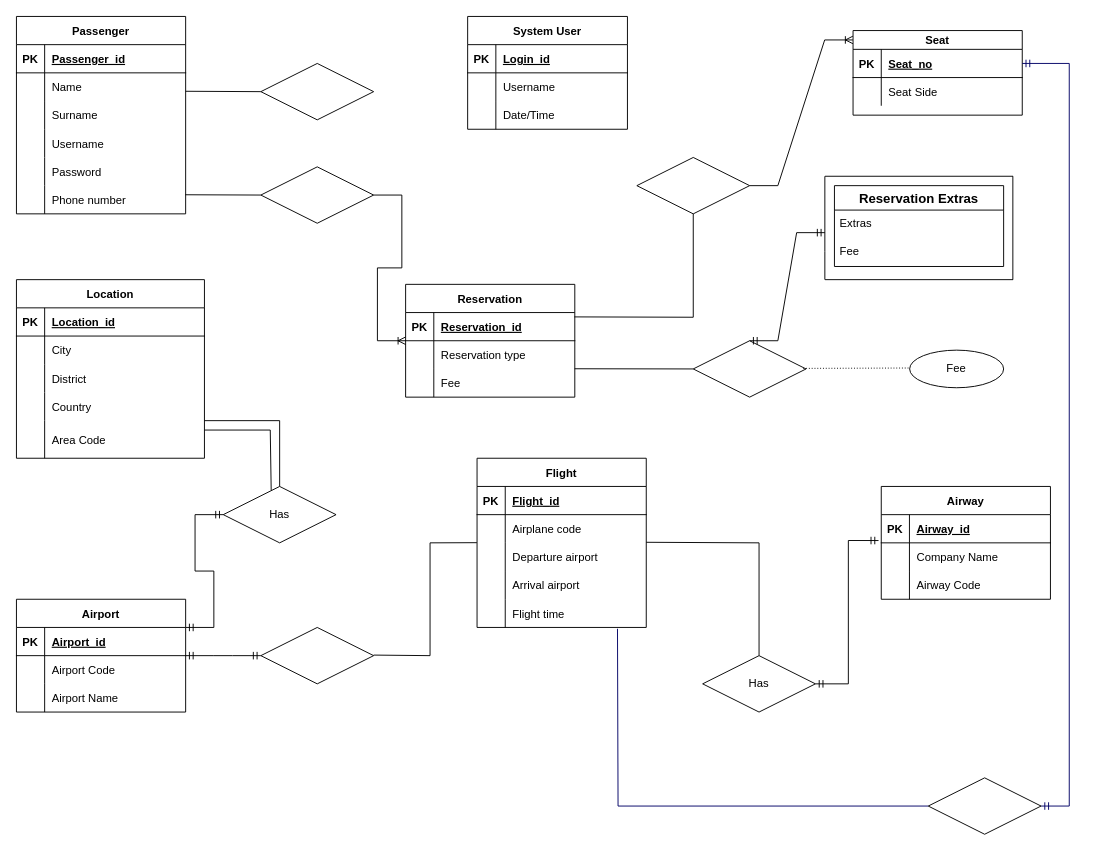
Some shapes in this 1094 by 851 pixel diagram are drawn without their labels. The centre of each missing label's shape, as x and y in pixels:
Belongs: [693,185]
Composes: [984,805]
Contains: [317,655]
Logins: [317,91]
reserves: [317,194]
Ticket: [749,368]
